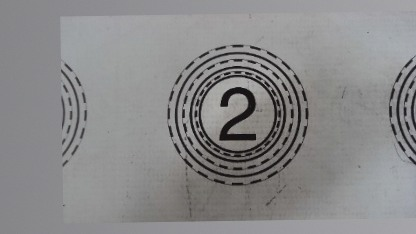2r: (162, 40, 310, 190)
